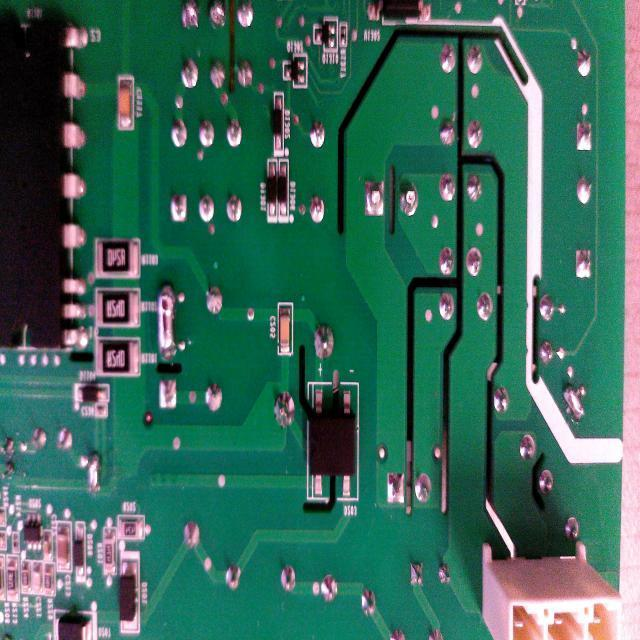Soldering shorted: (155, 274, 179, 364), (564, 378, 586, 424), (86, 446, 104, 498)
